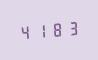eight: (48, 20, 62, 38)
four: (18, 22, 32, 41)
one: (33, 21, 47, 40)
three: (63, 18, 77, 37)
